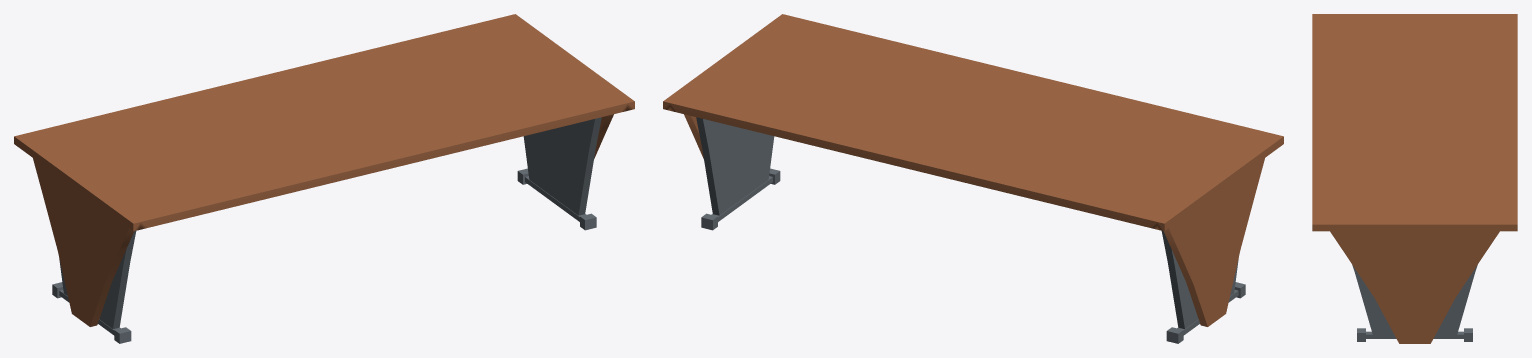
The model's file is newbookarchive_desk_6.fbx.
3 renders of one model, left to right at view 1: azimuth 30°, elevation 25°; view 2: azimuth 150°, elevation 25°; view 3: azimuth 270°, elevation 25°, orthographic. The views are drawn at different scales.
Parts seen in each view (by area): view 1: newbookarchive_desk_6; view 2: newbookarchive_desk_6; view 3: newbookarchive_desk_6.
Part boxes in pixels (x1,y1,x2,y2): newbookarchive_desk_6: (14, 14, 634, 343); newbookarchive_desk_6: (663, 14, 1283, 343); newbookarchive_desk_6: (1312, 14, 1517, 343).
Bounding box in the file's own units: 0.0215 × 0.00584 × 0.00888.
1 material, 1 textured.
